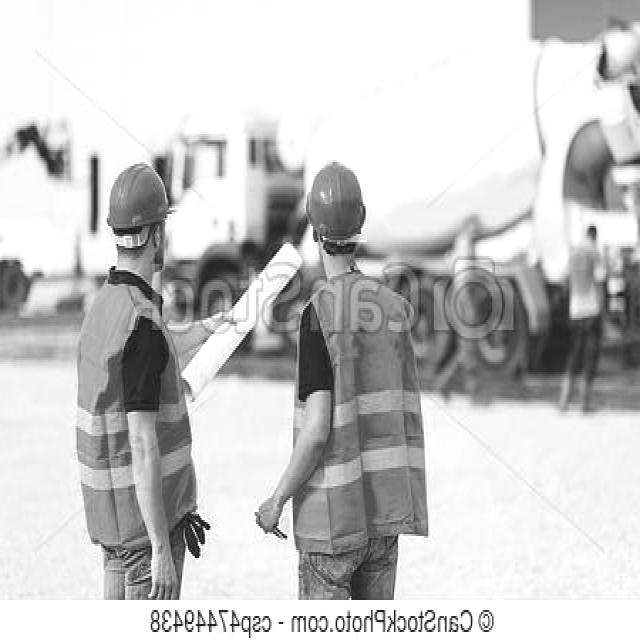hand_glove: (181, 510, 213, 560)
hand_noglove: (145, 534, 181, 606), (249, 492, 286, 534)
head_helmet: (101, 166, 175, 234), (306, 162, 370, 240)
person: (282, 168, 405, 604), (81, 162, 202, 596), (548, 226, 607, 418), (432, 210, 485, 420)
vest: (283, 282, 425, 548), (78, 276, 198, 554)
